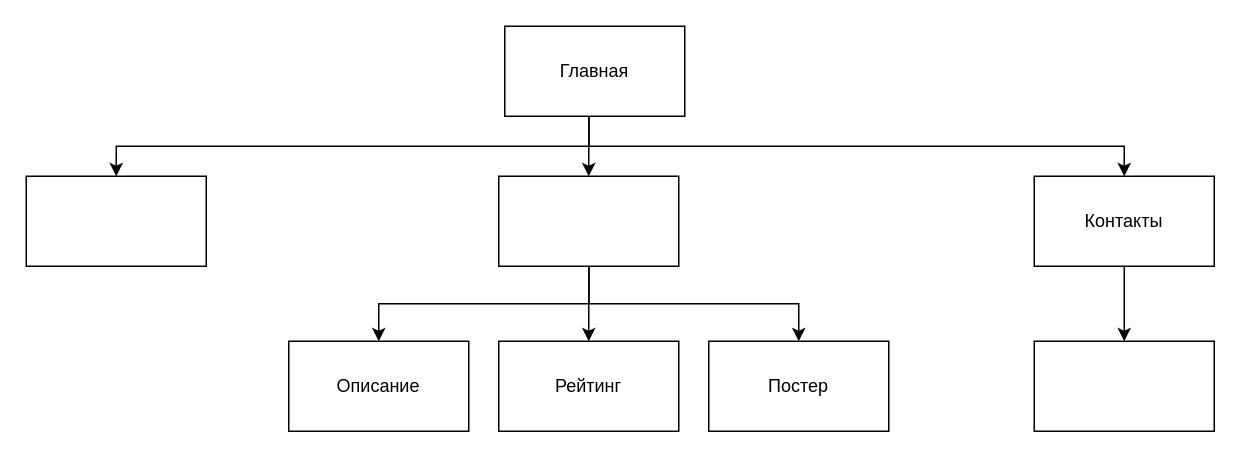
This 1241x458 diagram has some shape labels left out. The shapes that lost their labels are listed below. From the top down, each one's centre as x and y in pixels, then its label:
At point (115, 220): "О проекте".
At point (588, 220): "Актуальные фильмы".
At point (1123, 385): "Форма для обратной связи".
